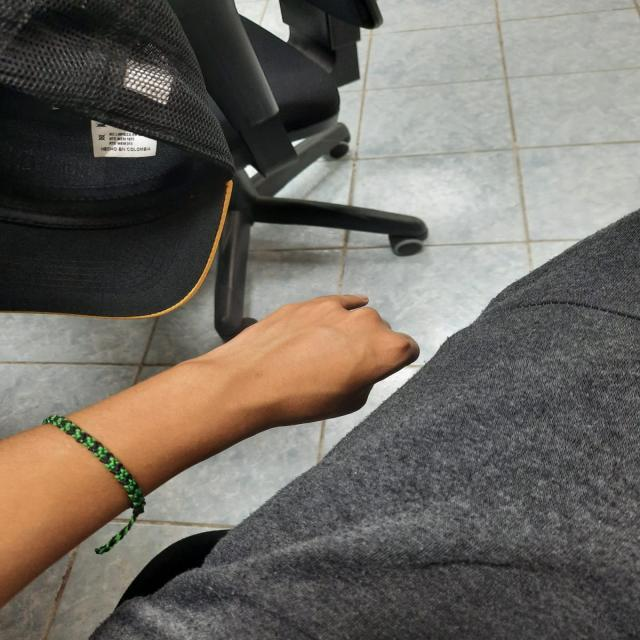Z: (169, 276, 453, 435)
